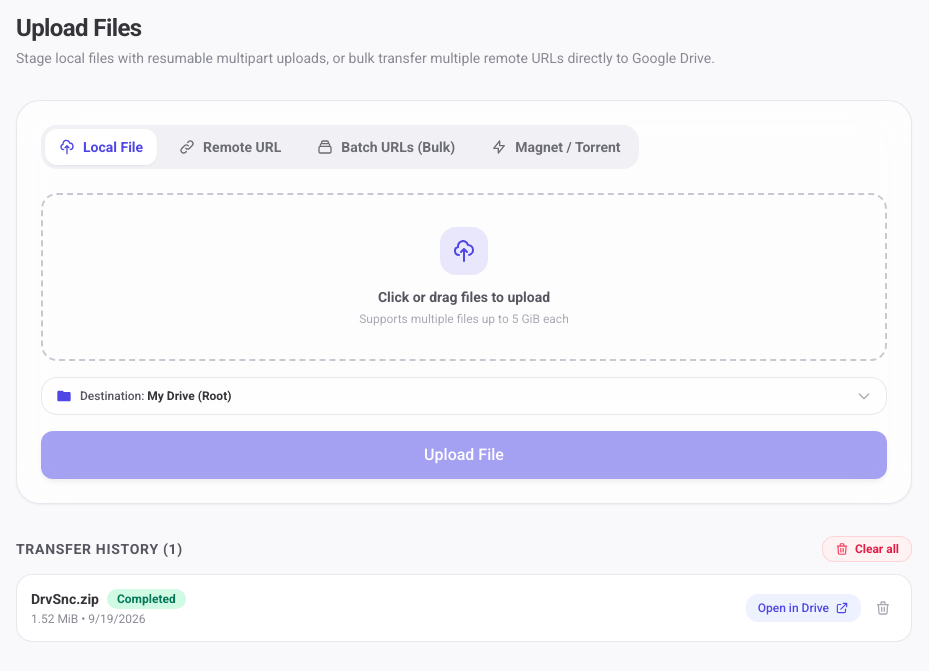
Browser-relayed remote transfers › renders Clear all button when transfer history exists, and clicking it clears all history
This screenshot has width=929, height=671.
Check: the text "DrvSnc.zip" is shown, box [31,589,99,609]
// Click Clear all
Click the button with test id "clear-all-history-btn" at [867, 549], box [822,536,912,562]
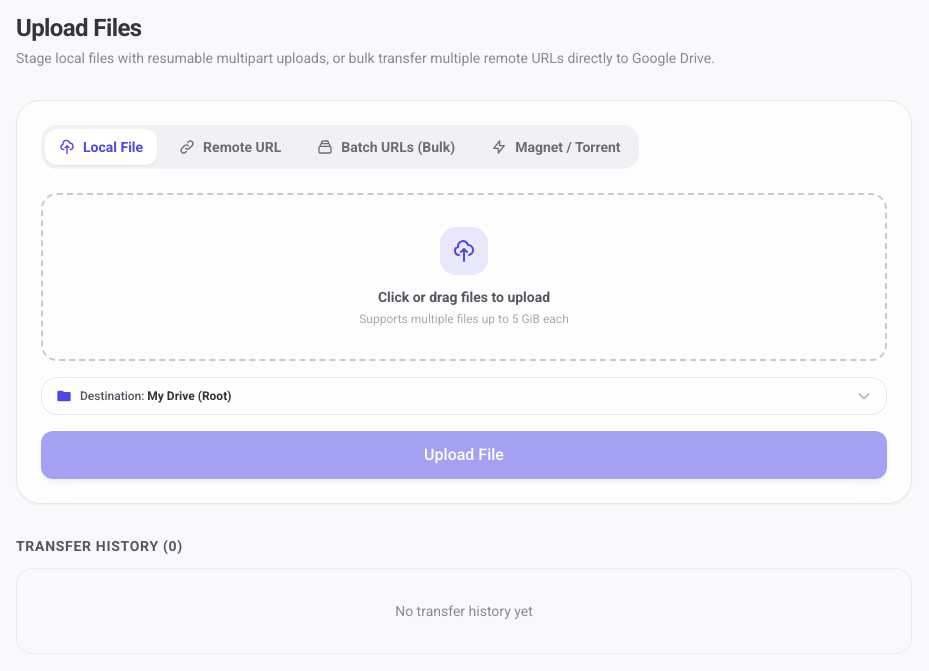
Check: the text "DrvSnc.zip" is gone
Check: the text "No transfer history yet" is shown, box [395,603,533,619]
Check: the button with test id "clear-all-history-btn" is gone
